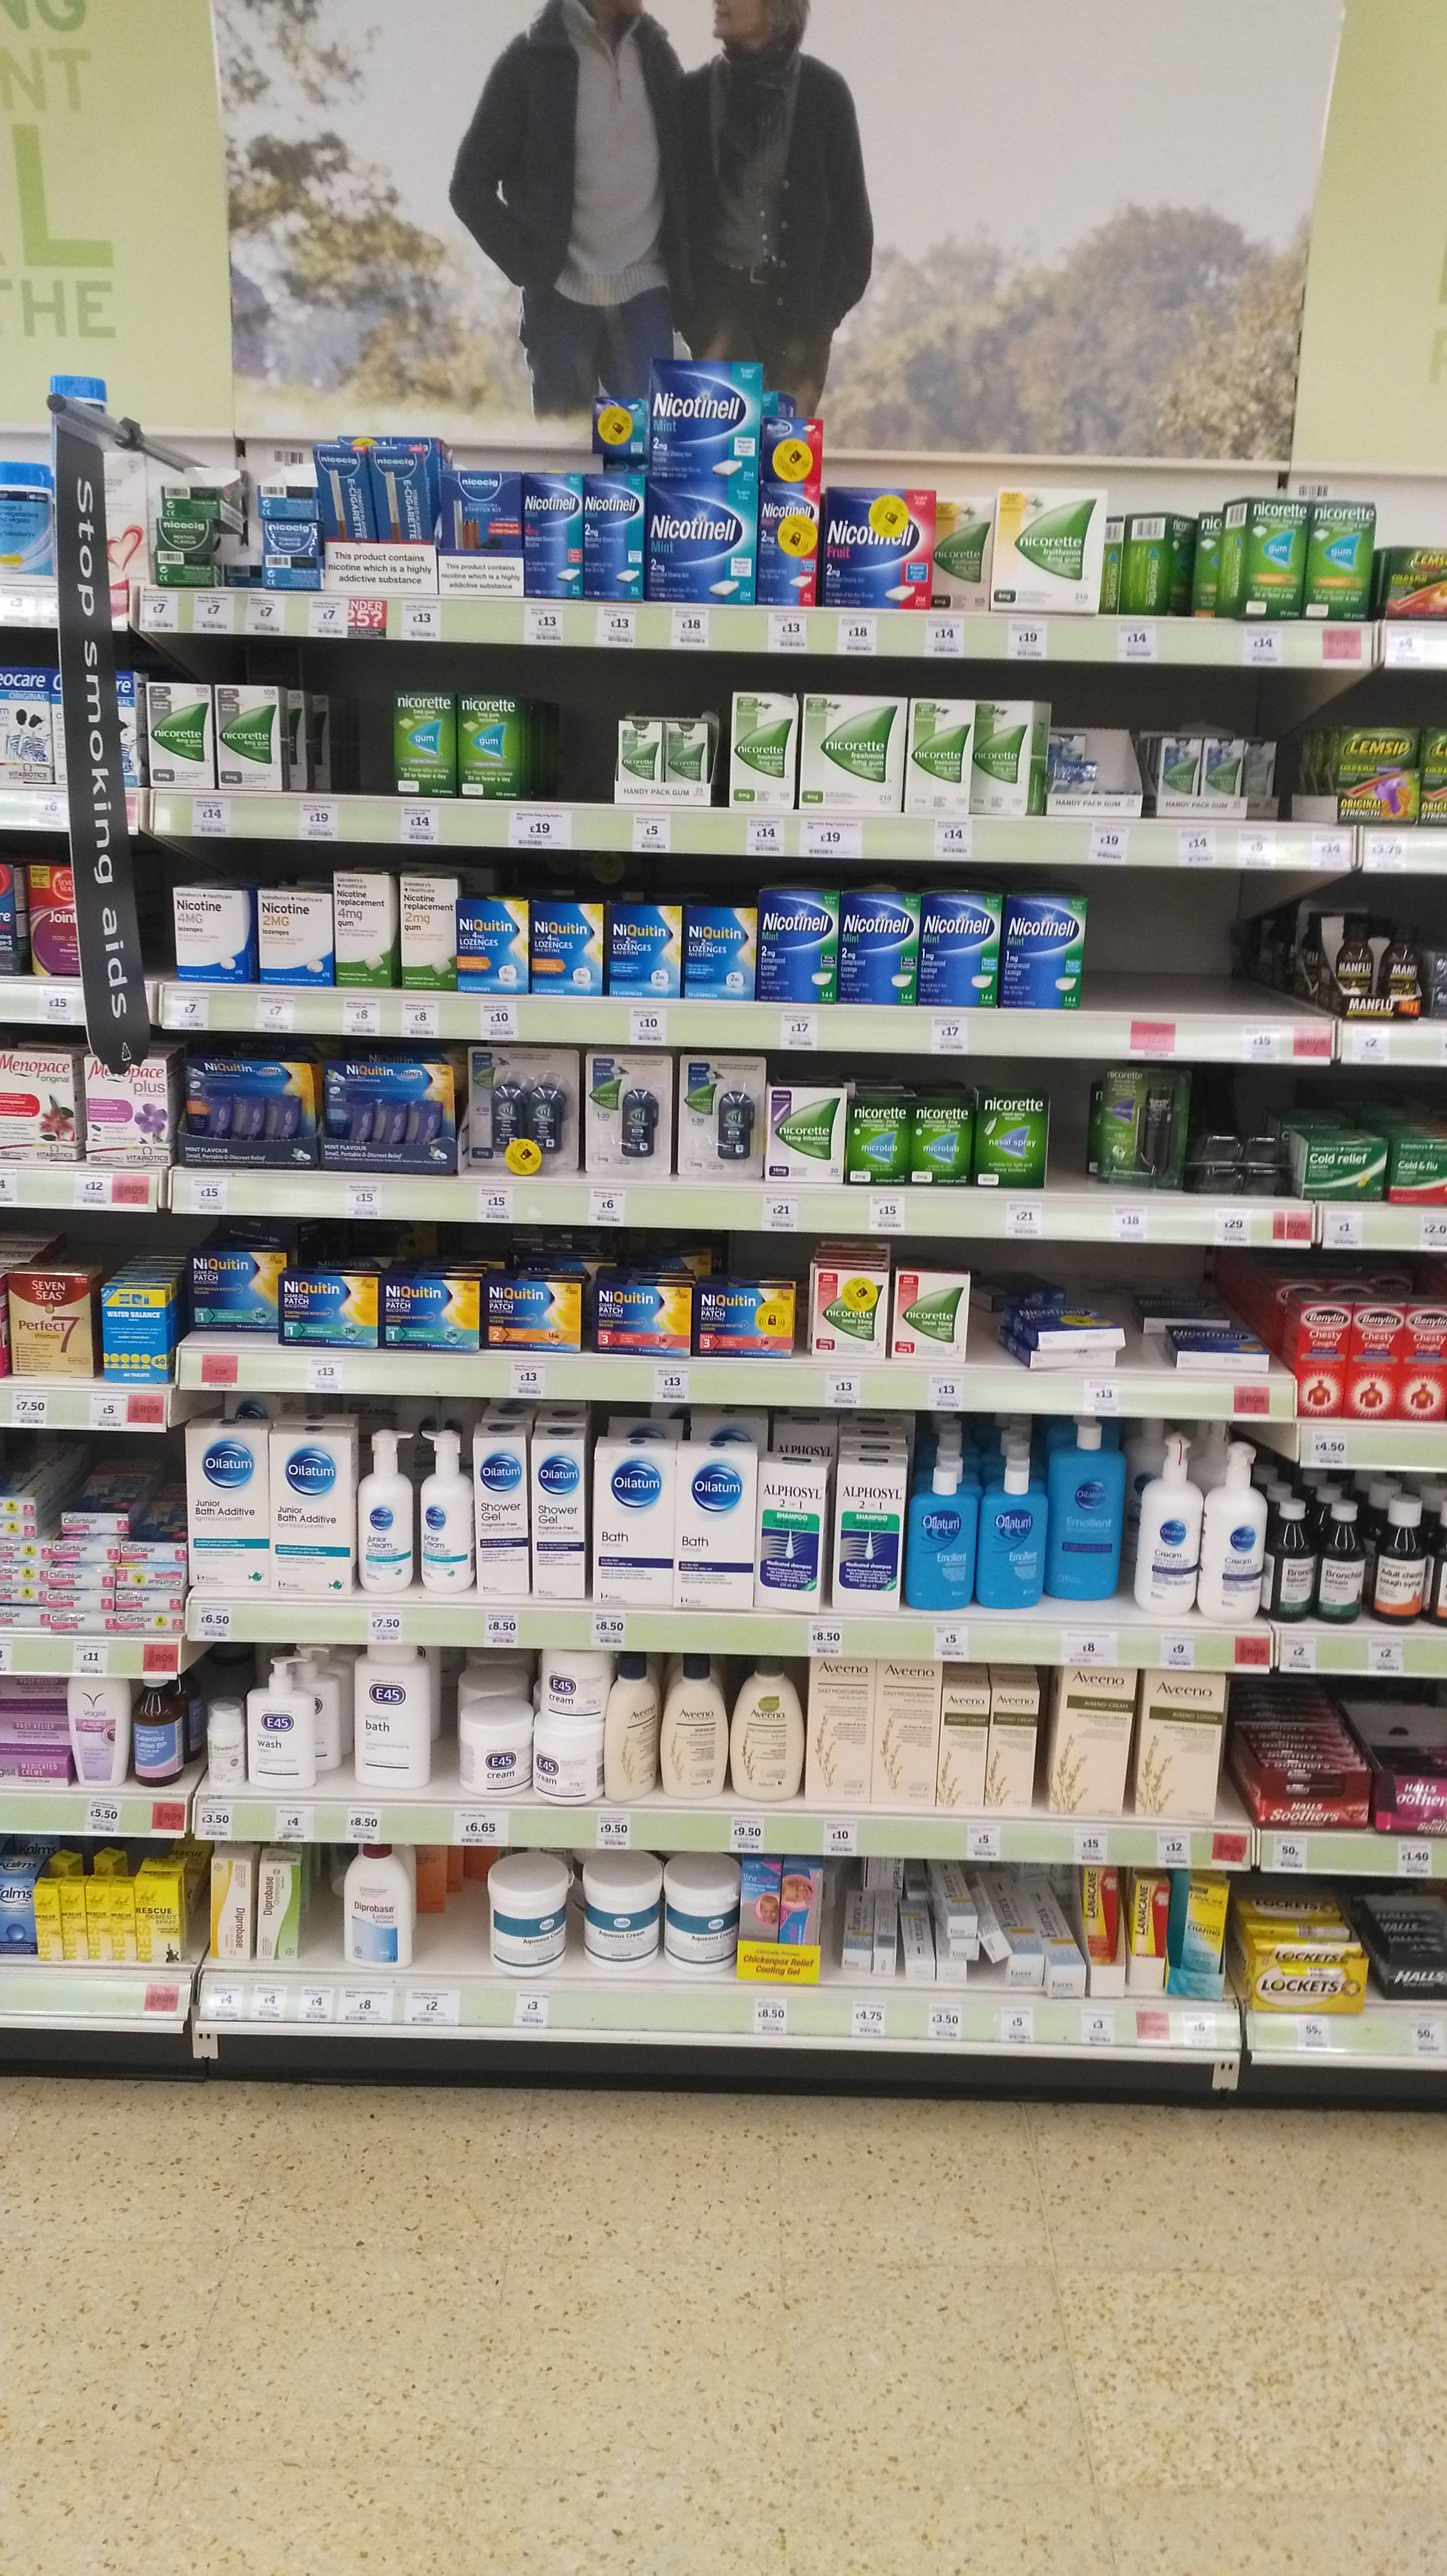Out-of-stock: (1084, 897, 1201, 1056)
